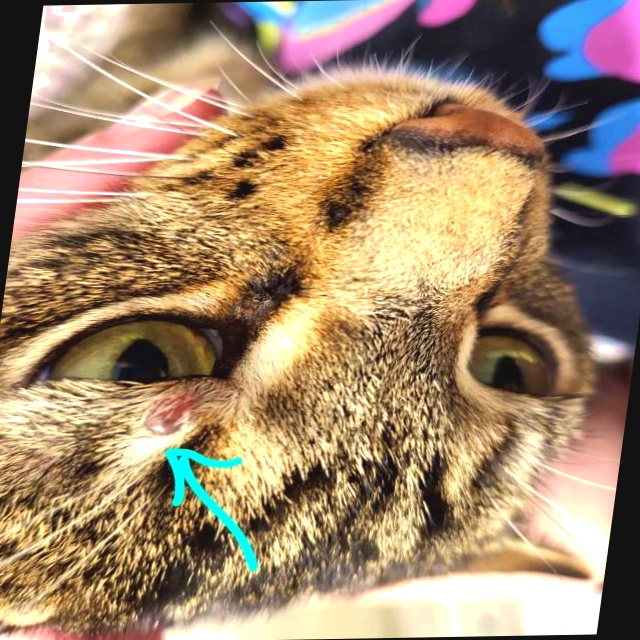lump_and_bump: (146, 394, 196, 433)
